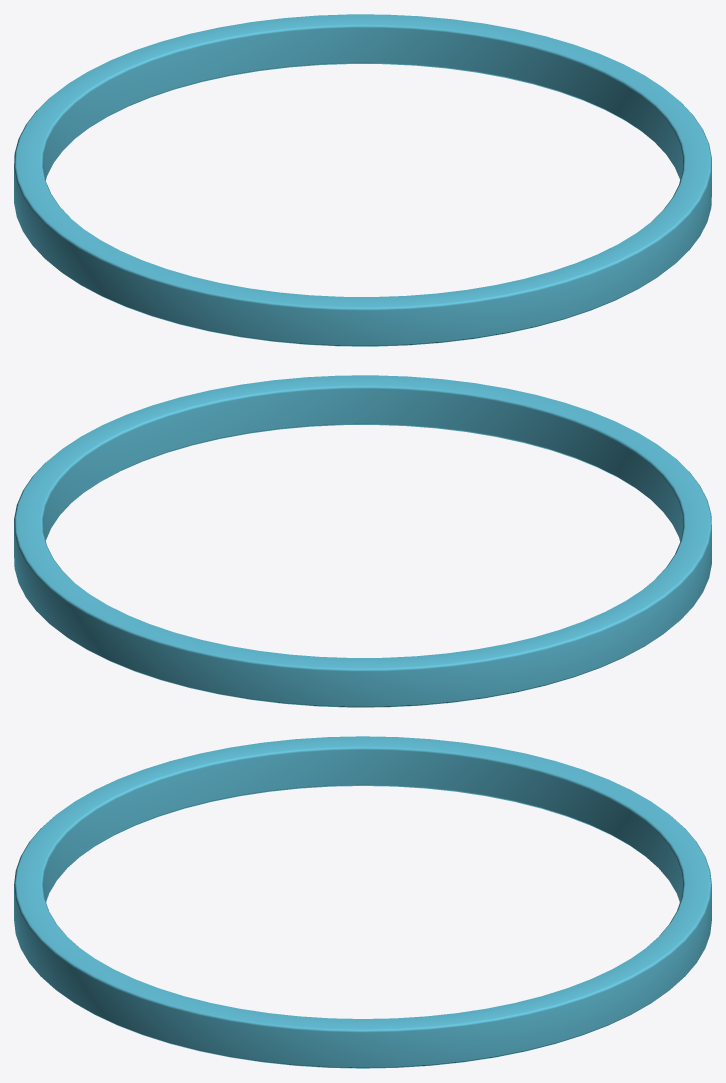
The picture shows the model from 3 angles, top to bottom: view 1: azimuth 30°, elevation 25°; view 2: azimuth 150°, elevation 25°; view 3: azimuth 270°, elevation 25°; orthographic projection.
Visible parts, largest first — view 1: seal_body; view 2: seal_body; view 3: seal_body.
Boxes of the visible parts, x1,y1,x2,y2 form: seal_body: (14, 14, 711, 346); seal_body: (14, 375, 711, 707); seal_body: (14, 736, 711, 1068).
Size of the model in its own units: 0.1524 by 0.00952 by 0.1524.
